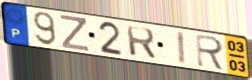2: (96, 20, 124, 57)
9: (30, 11, 58, 47)
I: (175, 29, 188, 67)
R: (195, 33, 227, 72), (125, 25, 158, 61)
Z: (59, 14, 91, 53)
